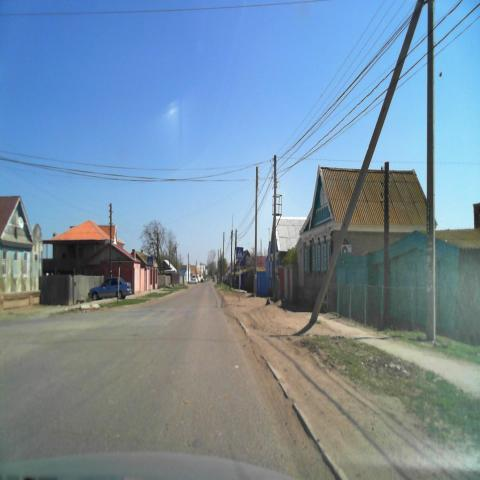5_19_1: (236, 246, 243, 259), (147, 256, 153, 267)
